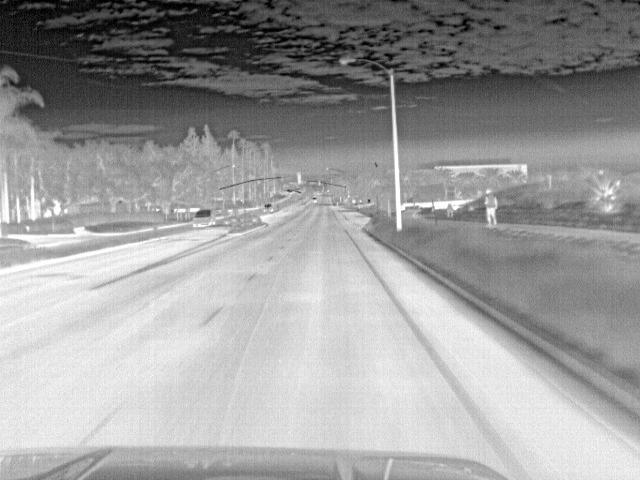car: (189, 206, 216, 229), (259, 200, 276, 213)
person: (483, 189, 499, 229)
